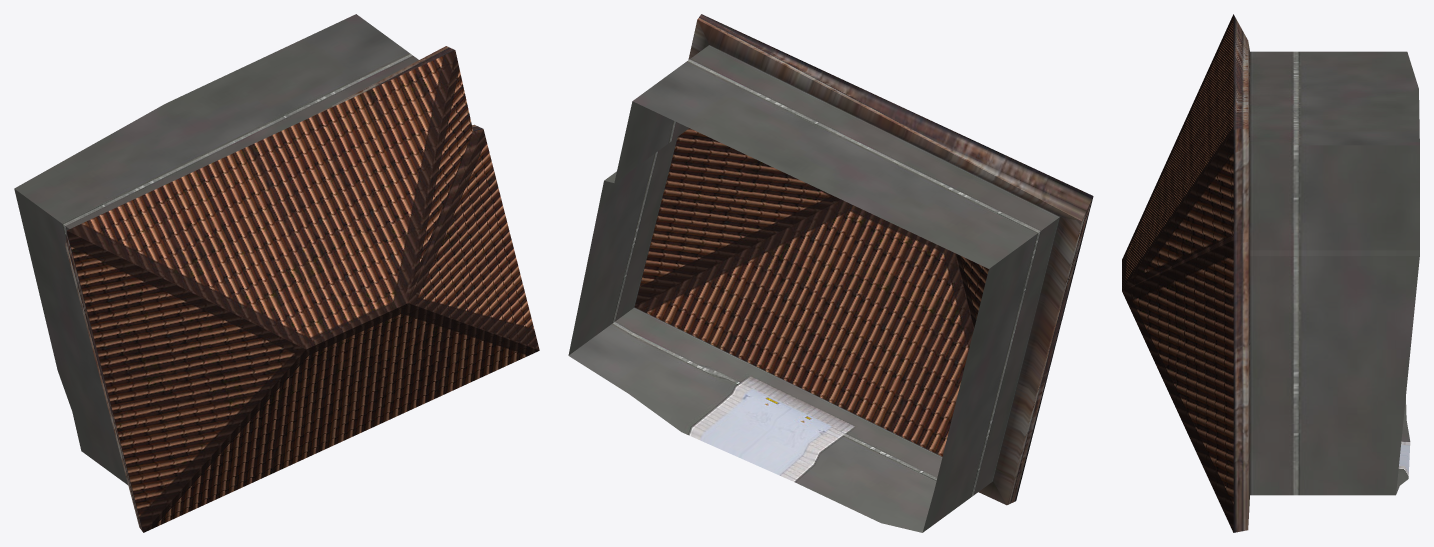
File: Toompuiestee_18e_1-origo.obj
3 renders of one model, left to right at view 1: azimuth 30°, elevation 25°; view 2: azimuth 150°, elevation 25°; view 3: azimuth 270°, elevation 25°, orthographic. The views are drawn at different scales.
Visible parts, largest first — view 1: Toompuiestee_18e_1; view 2: Toompuiestee_18e_1; view 3: Toompuiestee_18e_1.
Part boxes in pixels (bbox=[...]): Toompuiestee_18e_1: bbox=[14, 14, 539, 532]; Toompuiestee_18e_1: bbox=[568, 14, 1093, 532]; Toompuiestee_18e_1: bbox=[1122, 14, 1419, 532].
Size of the model in its own units: 11.56 by 9.5 by 5.67.
Materials: 3 (3 with a texture image).
